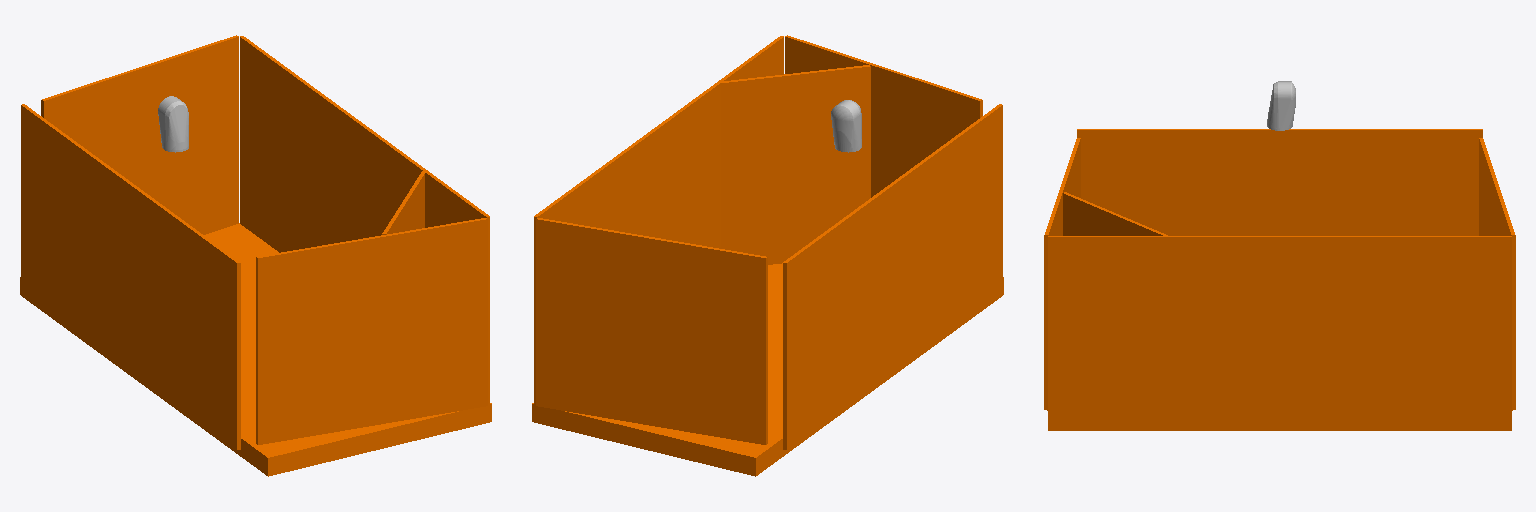
robot.urdf — sia20d_workcell:
<?xml version="1.0" ?>
<!-- =================================================================================== -->
<!-- |    This document was autogenerated by xacro from workcell.xacro                 | -->
<!-- |    EDITING THIS FILE BY HAND IS NOT RECOMMENDED                                 | -->
<!-- =================================================================================== -->
<robot name="sia20d_workcell" xmlns:xacro="http://ros.org/wiki/xacro">
  <link name="front_wall">
    <visual>
      <geometry>
        <box size=".02 2.397 1.0"/>
      </geometry>
      <material name="orange_transparent">
        <color rgba="1 0.5 0 0.2"/>
      </material>
    </visual>
    <collision>
      <geometry>
        <box size=".02 2.397 1.0"/>
      </geometry>
      <material name="orange_transparent"/>
    </collision>
  </link>
  <link name="right_wall">
    <visual>
      <geometry>
        <box size="1.2 .02 1"/>
      </geometry>
      <material name="orange_transparent"/>
    </visual>
    <collision>
      <geometry>
        <box size="1.2 .02 1"/>
      </geometry>
      <material name="orange_transparent"/>
    </collision>
  </link>
  <link name="left_wall">
    <visual>
      <geometry>
        <box size="1.2 .02 1"/>
      </geometry>
      <material name="orange_transparent"/>
    </visual>
    <collision>
      <geometry>
        <box size="1.2 .02 1"/>
      </geometry>
      <material name="orange_transparent"/>
    </collision>
  </link>
  <link name="diag_wall">
    <visual>
      <geometry>
        <box size=".75 .02 1"/>
      </geometry>
      <material name="orange_transparent"/>
    </visual>
    <collision>
      <geometry>
        <box size=".75 .02 1"/>
      </geometry>
      <material name="orange_transparent"/>
    </collision>
  </link>
  <link name="back_wall">
    <visual>
      <geometry>
        <box size=".02 2.099 1"/>
      </geometry>
      <material name="orange_transparent"/>
    </visual>
    <collision>
      <geometry>
        <box size=".02 2.099 1"/>
      </geometry>
      <material name="orange_transparent"/>
    </collision>
  </link>
  <link name="floor">
    <visual>
      <geometry>
        <box size="1.25 2.4 .1"/>
      </geometry>
      <material name="orange_transparent"/>
    </visual>
    <collision>
      <geometry>
        <box size="1.25 2.4 .1"/>
      </geometry>
      <material name="orange_transparent"/>
    </collision>
  </link>
  <joint name="base_to_front" type="fixed">
    <parent link="base_link"/>
    <child link="front_wall"/>
    <origin rpy="0 0 0" xyz="1.06 0 .5"/>
  </joint>
  <joint name="base_to_right" type="fixed">
    <parent link="base_link"/>
    <child link="right_wall"/>
    <origin rpy="0 0 -.14" xyz=".45 -1.124 0.5"/>
  </joint>
  <joint name="base_to_left" type="fixed">
    <parent link="base_link"/>
    <child link="left_wall"/>
    <origin rpy="0 0 .14" xyz=".45 1.124 0.5"/>
  </joint>
  <joint name="base_to_diag" type="fixed">
    <parent link="base_link"/>
    <child link="diag_wall"/>
    <origin rpy="0 0 .785" xyz=".788 -.851 0.5"/>
  </joint>
  <joint name="base_to_back" type="fixed">
    <parent link="base_link"/>
    <child link="back_wall"/>
    <origin xyz="-.25 0 0.5"/>
  </joint>
  <joint name="base_to_floor" type="fixed">
    <parent link="base_link"/>
    <child link="floor"/>
    <origin xyz=".45 0 -0.05"/>
  </joint>
  <link name="base_link">
    <visual>
      <geometry>
        <mesh filename="package://motoman_config/meshes/sia20d/visual/MOTOMAN_BASE.stl"/>
      </geometry>
      <material name="blue">
        <color rgba="0 0 1 1"/>
      </material>
    </visual>
    <collision>
      <geometry>
        <mesh filename="package://motoman_config/meshes/sia20d/collision/MOTOMAN_BASE.stl"/>
      </geometry>
      <material name="yellow">
        <color rgba="0 1 1 1"/>
      </material>
    </collision>
  </link>
  <link name="link_s">
    <visual>
      <origin rpy="0 0 3.1416" xyz="0 0 0"/>
      <geometry>
        <mesh filename="package://motoman_config/meshes/sia20d/visual/MOTOMAN_AXIS_S.stl"/>
      </geometry>
      <material name="silver">
        <color rgba="0.8 0.8 0.8 1"/>
      </material>
    </visual>
    <collision>
      <origin rpy="0 0 3.1416" xyz="0 0 0"/>
      <geometry>
        <mesh filename="package://motoman_config/meshes/sia20d/collision/MOTOMAN_AXIS_S.stl"/>
      </geometry>
      <material name="yellow"/>
    </collision>
  </link>
  <link name="link_l">
    <visual>
      <origin rpy="1.57 3.1416 3.1416" xyz="0 0 0"/>
      <geometry>
        <mesh filename="package://motoman_config/meshes/sia20d/visual/MOTOMAN_AXIS_L.stl"/>
      </geometry>
      <material name="blue"/>
    </visual>
    <collision>
      <origin rpy="1.57 3.1416 3.1416" xyz="0 0 0"/>
      <geometry>
        <mesh filename="package://motoman_config/meshes/sia20d/collision/MOTOMAN_AXIS_L.stl"/>
      </geometry>
      <material name="yellow"/>
    </collision>
  </link>
  <link name="link_e">
    <visual>
      <origin rpy="0 0 0" xyz="0 0 0"/>
      <geometry>
        <mesh filename="package://motoman_config/meshes/sia20d/visual/MOTOMAN_AXIS_E.stl"/>
      </geometry>
      <material name="silver"/>
    </visual>
    <collision>
      <origin rpy="0 0 0" xyz="0 0 0"/>
      <geometry>
        <mesh filename="package://motoman_config/meshes/sia20d/collision/MOTOMAN_AXIS_E.stl"/>
      </geometry>
      <material name="yellow"/>
    </collision>
  </link>
  <link name="link_u">
    <visual>
      <origin rpy="1.57 -3.1415 3.1416" xyz="0 0 0"/>
      <geometry>
        <mesh filename="package://motoman_config/meshes/sia20d/visual/MOTOMAN_AXIS_U.stl"/>
      </geometry>
      <material name="blue"/>
    </visual>
    <collision>
      <origin rpy="1.57 -3.1415 3.1416" xyz="0 0 0"/>
      <geometry>
        <mesh filename="package://motoman_config/meshes/sia20d/collision/MOTOMAN_AXIS_U.stl"/>
      </geometry>
      <material name="yellow"/>
    </collision>
  </link>
  <link name="link_r">
    <visual>
      <origin rpy="0 0 0" xyz="0 0 0"/>
      <geometry>
        <mesh filename="package://motoman_config/meshes/sia20d/visual/MOTOMAN_AXIS_R.stl"/>
      </geometry>
      <material name="silver"/>
    </visual>
    <collision>
      <origin rpy="0 0 0" xyz="0 0 0"/>
      <geometry>
        <mesh filename="package://motoman_config/meshes/sia20d/collision/MOTOMAN_AXIS_R.stl"/>
      </geometry>
      <material name="yellow"/>
    </collision>
  </link>
  <link name="link_b">
    <visual>
      <origin rpy="-1.57 0 0" xyz="0 0 0"/>
      <geometry>
        <mesh filename="package://motoman_config/meshes/sia20d/visual/MOTOMAN_AXIS_B.stl"/>
      </geometry>
      <material name="blue"/>
    </visual>
    <collision>
      <origin rpy="-1.57 0 0" xyz="0 0 0"/>
      <geometry>
        <mesh filename="package://motoman_config/meshes/sia20d/collision/MOTOMAN_AXIS_B.stl"/>
      </geometry>
      <material name="yellow"/>
    </collision>
  </link>
  <link name="link_t">
    <visual>
      <geometry>
        <mesh filename="package://motoman_config/meshes/sia20d/visual/MOTOMAN_AXIS_T.stl"/>
      </geometry>
      <material name="silver"/>
    </visual>
    <collision>
      <geometry>
        <mesh filename="package://motoman_config/meshes/sia20d/collision/MOTOMAN_AXIS_T.stl"/>
      </geometry>
      <material name="yellow"/>
    </collision>
  </link>
  <link name="tool0"/>
  <joint name="joint_s" type="revolute">
    <parent link="base_link"/>
    <child link="link_s"/>
    <origin rpy="0 0 0" xyz="0 0 0.41"/>
    <axis xyz="0 0 1"/>
    <limit effort="100" lower="-3.1416" upper="3.1416" velocity="2.26"/>
  </joint>
  <joint name="joint_l" type="revolute">
    <parent link="link_s"/>
    <child link="link_l"/>
    <origin rpy="0 0 0" xyz="0 0 0"/>
    <axis xyz="0 1 0"/>
    <limit effort="100" lower="-1.91" upper="1.91" velocity="2.26"/>
  </joint>
  <joint name="joint_e" type="revolute">
    <parent link="link_l"/>
    <child link="link_e"/>
    <origin rpy="0 0 0" xyz="0 0 0.49"/>
    <axis xyz="0 0 1"/>
    <limit effort="100" lower="-2.96" upper="2.96" velocity="2.96"/>
  </joint>
  <joint name="joint_u" type="revolute">
    <parent link="link_e"/>
    <child link="link_u"/>
    <origin rpy="0 0 0" xyz="0 0 0"/>
    <axis xyz="0 -1 0"/>
    <limit effort="100" lower="-2.26" upper="2.26" velocity="2.96"/>
  </joint>
  <joint name="joint_r" type="revolute">
    <parent link="link_u"/>
    <child link="link_r"/>
    <origin rpy="0 0 0" xyz="0 0 0.420"/>
    <axis xyz="0 0 -1"/>
    <limit effort="100" lower="-3.1416" upper="3.1416" velocity="3.48"/>
  </joint>
  <joint name="joint_b" type="revolute">
    <parent link="link_r"/>
    <child link="link_b"/>
    <origin rpy="0 0 0" xyz="0 0 0"/>
    <axis xyz="0 -1 0"/>
    <limit effort="100" lower="-1.91" upper="1.91" velocity="3.48"/>
  </joint>
  <joint name="joint_t" type="revolute">
    <parent link="link_b"/>
    <child link="link_t"/>
    <origin rpy="0 0 0" xyz="0 0 0.18"/>
    <axis xyz="0 0 -1"/>
    <limit effort="100" lower="-3.1416" upper="3.1416" velocity="6.97"/>
  </joint>
  <joint name="link_t-tool0" type="fixed">
    <origin rpy="0 -1.571 0" xyz="0 0 0.0"/>
    <parent link="link_t"/>
    <child link="tool0"/>
  </joint>
</robot>

--- What the picture shows (computed from the rendered views, not written in the file) ---
The picture shows the robot from 3 angles, left to right: view 1: azimuth 30°, elevation 25°; view 2: azimuth 150°, elevation 25°; view 3: azimuth 270°, elevation 25°; orthographic projection.
Model sia20d_workcell with 15 links and 14 joints (7 revolute, 7 fixed), rooted at base_link, posed every joint at zero.
Links seen in each view (by area): view 1: right_wall, back_wall, front_wall, left_wall, floor, link_r, diag_wall; view 2: left_wall, back_wall, diag_wall, front_wall, right_wall, floor, link_r; view 3: front_wall, back_wall, floor, left_wall, diag_wall, right_wall, link_r.
Boxes of the visible links, x1=… form: right_wall: x1=256, y1=218, x2=487, y2=444; back_wall: x1=21, y1=104, x2=240, y2=449; front_wall: x1=240, y1=36, x2=489, y2=403; left_wall: x1=41, y1=35, x2=238, y2=234; floor: x1=20, y1=223, x2=491, y2=476; link_r: x1=158, y1=96, x2=188, y2=152; diag_wall: x1=382, y1=171, x2=425, y2=234; left_wall: x1=536, y1=218, x2=767, y2=444; back_wall: x1=783, y1=104, x2=1002, y2=449; diag_wall: x1=721, y1=65, x2=870, y2=264; front_wall: x1=534, y1=36, x2=783, y2=403; right_wall: x1=785, y1=35, x2=982, y2=197; floor: x1=532, y1=263, x2=1003, y2=476; link_r: x1=831, y1=100, x2=861, y2=152; front_wall: x1=1048, y1=236, x2=1511, y2=412; back_wall: x1=1077, y1=129, x2=1482, y2=235; floor: x1=1048, y1=413, x2=1511, y2=430; left_wall: x1=1479, y1=138, x2=1515, y2=410; diag_wall: x1=1063, y1=192, x2=1167, y2=235; right_wall: x1=1044, y1=138, x2=1080, y2=410; link_r: x1=1267, y1=81, x2=1295, y2=130.
Size in the robot's own frame: 1.33 by 2.44 by 1.48 metres.
Meshes: 8 distinct files referenced, 2 mesh visuals loaded (2 binary STL); not drawn: 6 (reference not matched to a file when rendering).